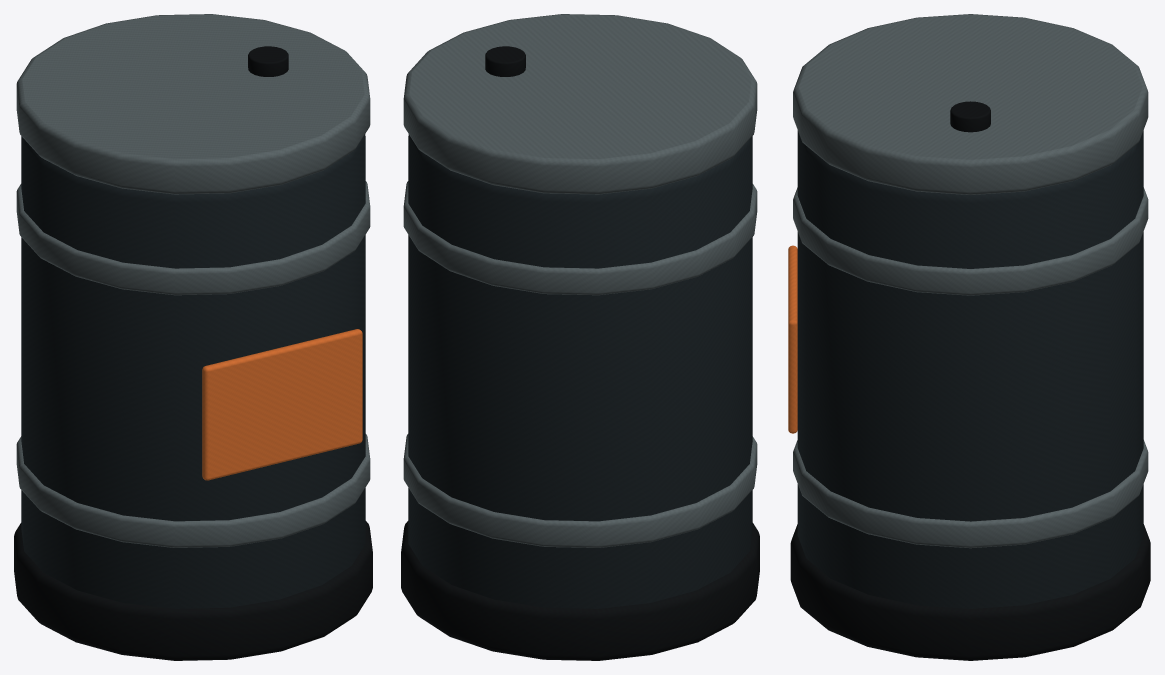
Rendered from StorageDrum.glb.
The picture shows the model from 3 angles, left to right: view 1: azimuth 30°, elevation 25°; view 2: azimuth 150°, elevation 25°; view 3: azimuth 270°, elevation 25°; orthographic projection.
Parts seen in each view (by area): view 1: StorageDrum_Mesh; view 2: StorageDrum_Mesh; view 3: StorageDrum_Mesh.
Part boxes in pixels (bbox=[...]): StorageDrum_Mesh: bbox=[14, 14, 372, 660]; StorageDrum_Mesh: bbox=[401, 14, 759, 660]; StorageDrum_Mesh: bbox=[788, 14, 1150, 660].
Bounding box in the file's own units: 0.75 × 1.18 × 0.755.
4 materials, 4 textured.
